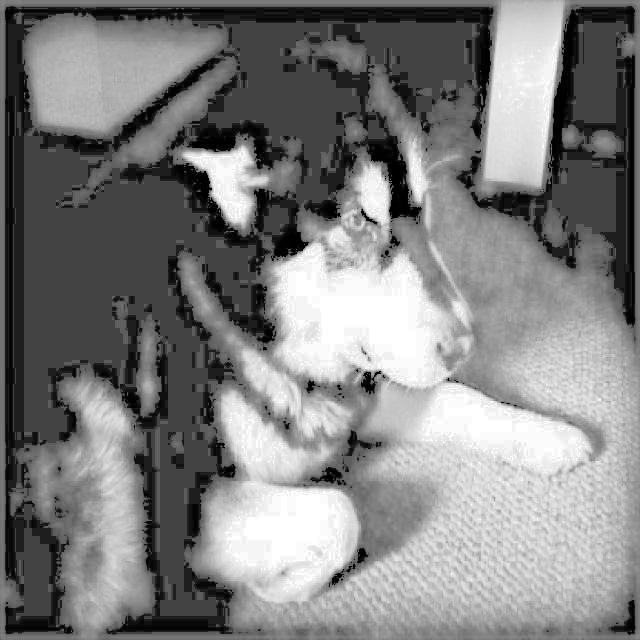Dog: (100, 32, 593, 603)
